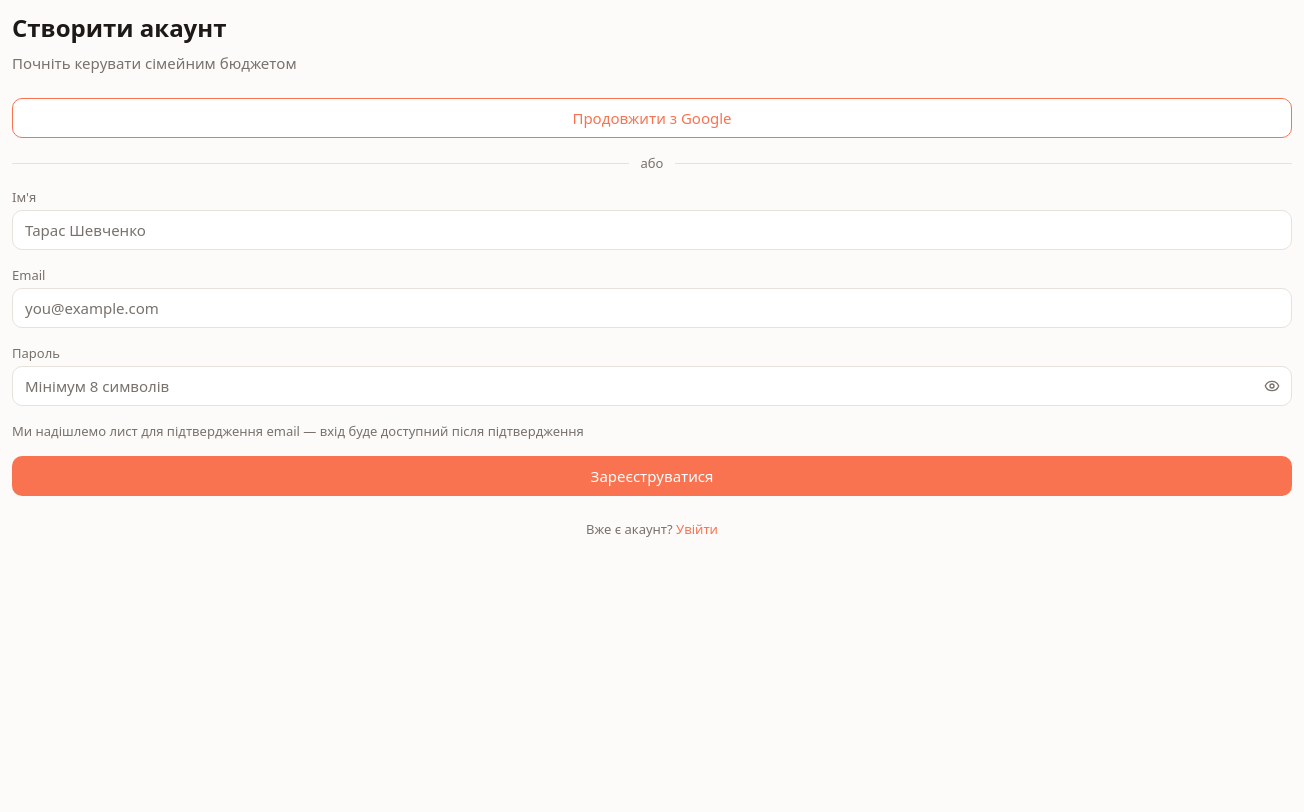
Test: SignupForm › explains a failed confirmation email and lets the user retry
The image size is (1304, 812).
Type "a@b.co" into the field labelled "Email". click: (652,308)
box: [12,288,1292,328]
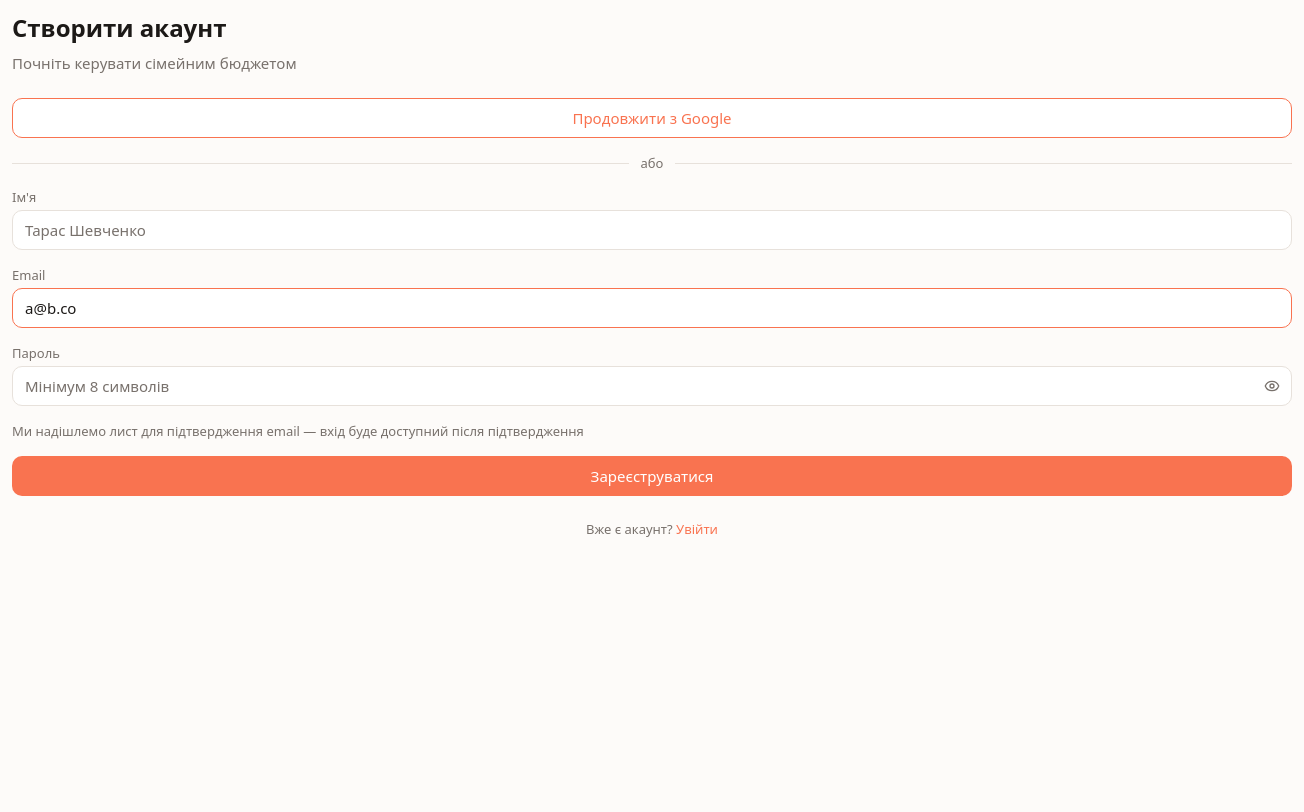
Type "12345678" into the password field labelled "Пароль". click: (652,386)
box: [12,366,1292,406]
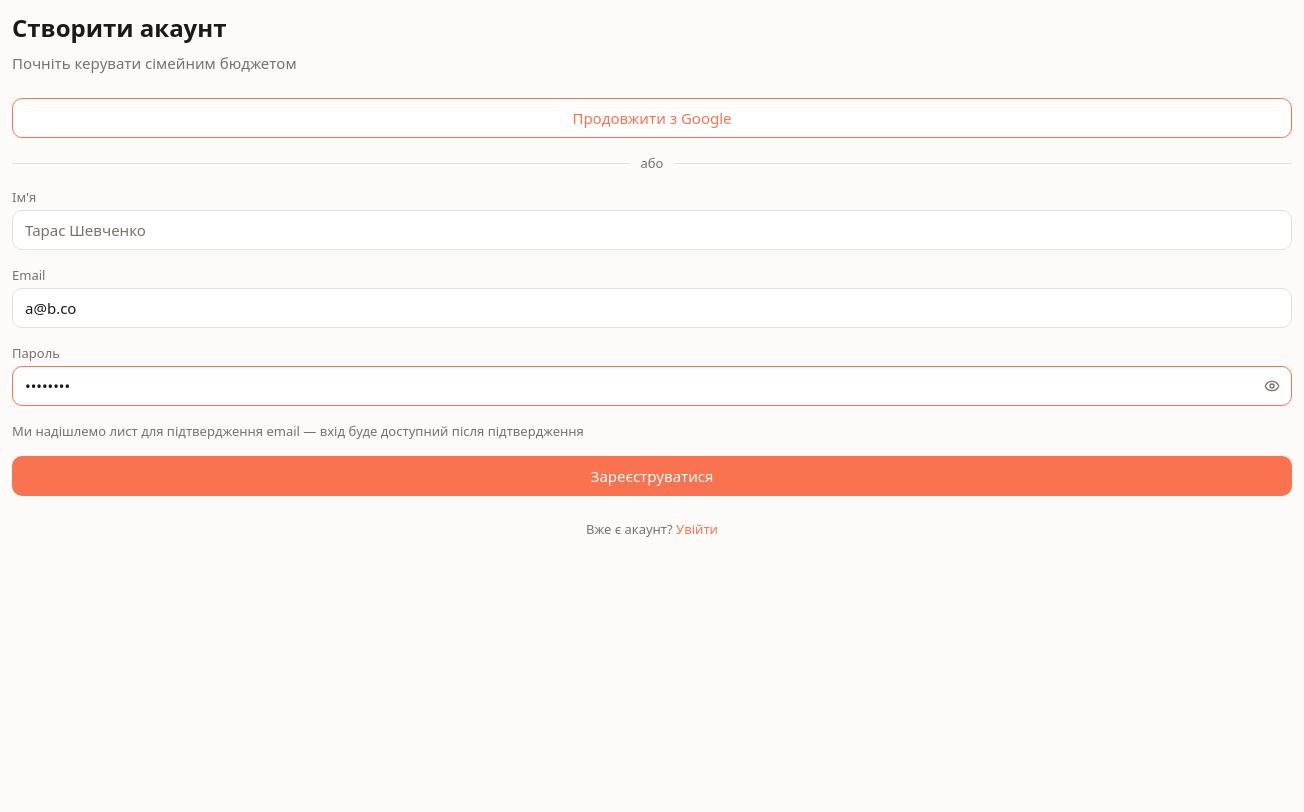
Click the button "Зареєструватися". click: (652,476)
box: [12,456,1292,496]
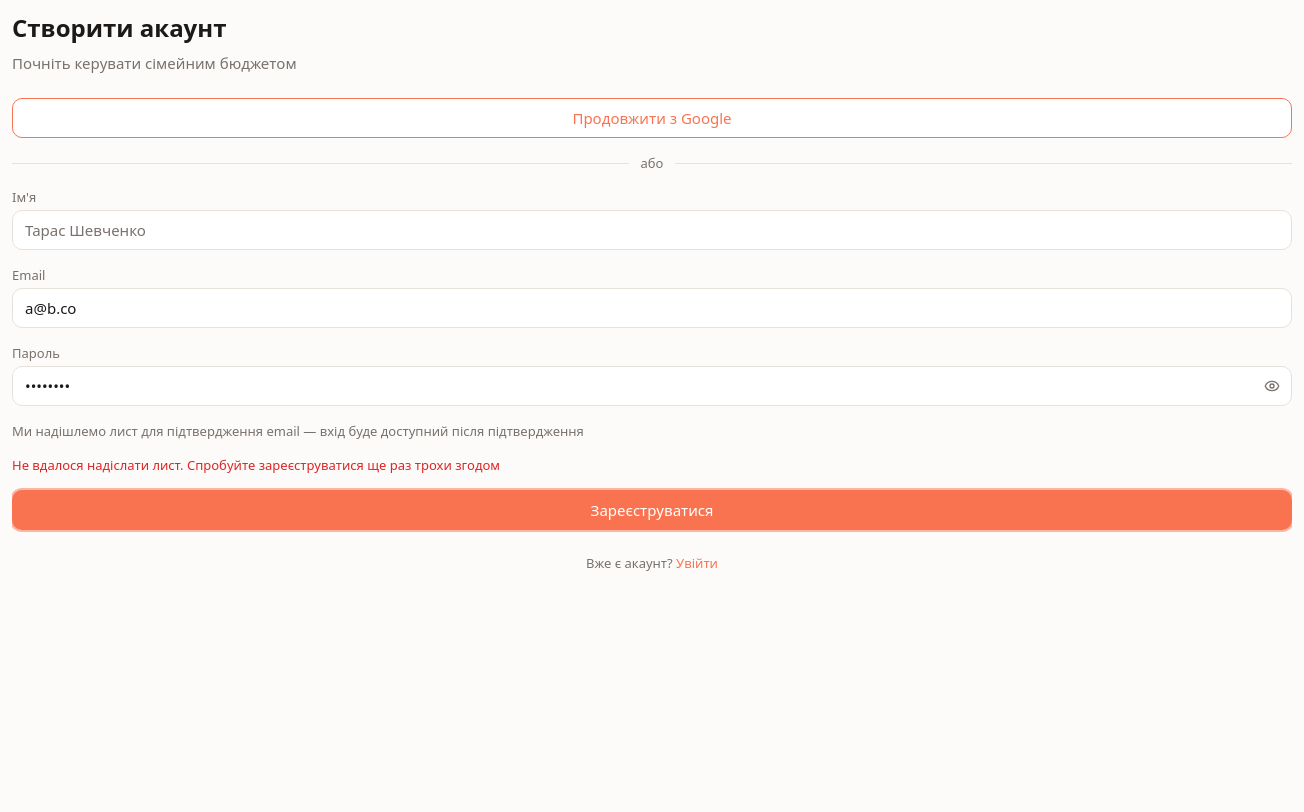
expect the button "Зареєструватися" is enabled: met, box [12,490,1292,530]
expect the message shows "Не вдалося надіслати лист": met, box [12,456,500,474]
